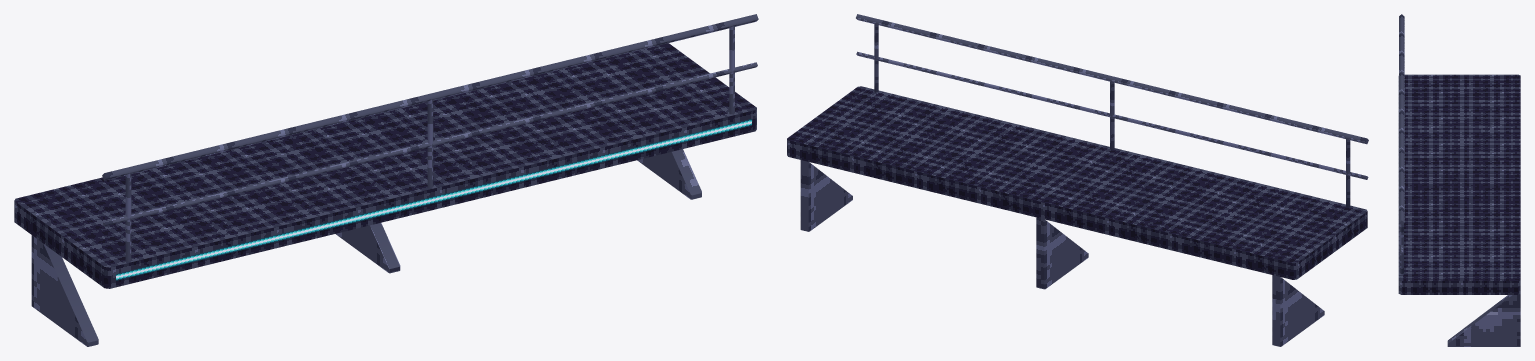
The model's file is cystreet.walkway.glb.
The picture shows the model from 3 angles, left to right: view 1: azimuth 30°, elevation 25°; view 2: azimuth 150°, elevation 25°; view 3: azimuth 270°, elevation 25°; orthographic projection. The views are drawn at different scales.
Parts seen in each view (by area): view 1: kit_deck, kit_card_neon; view 2: kit_deck; view 3: kit_deck.
Boxes of the visible parts, x1,y1,x2,y2 form: kit_deck: (14,14,758,346); kit_card_neon: (116,119,751,280); kit_deck: (787,14,1368,346); kit_deck: (1398,14,1520,346).
Bounding box in the file's own units: 8 × 2.4 × 2.03.
4 materials, 4 textured.
